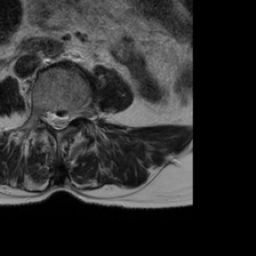CCS_stenosis: (55, 106, 62, 137)
LFS_normal: (70, 100, 78, 127)
LLS_normal: (62, 105, 70, 135)
RFS_normal: (39, 102, 47, 129)
RLS_normal: (47, 103, 55, 136)
